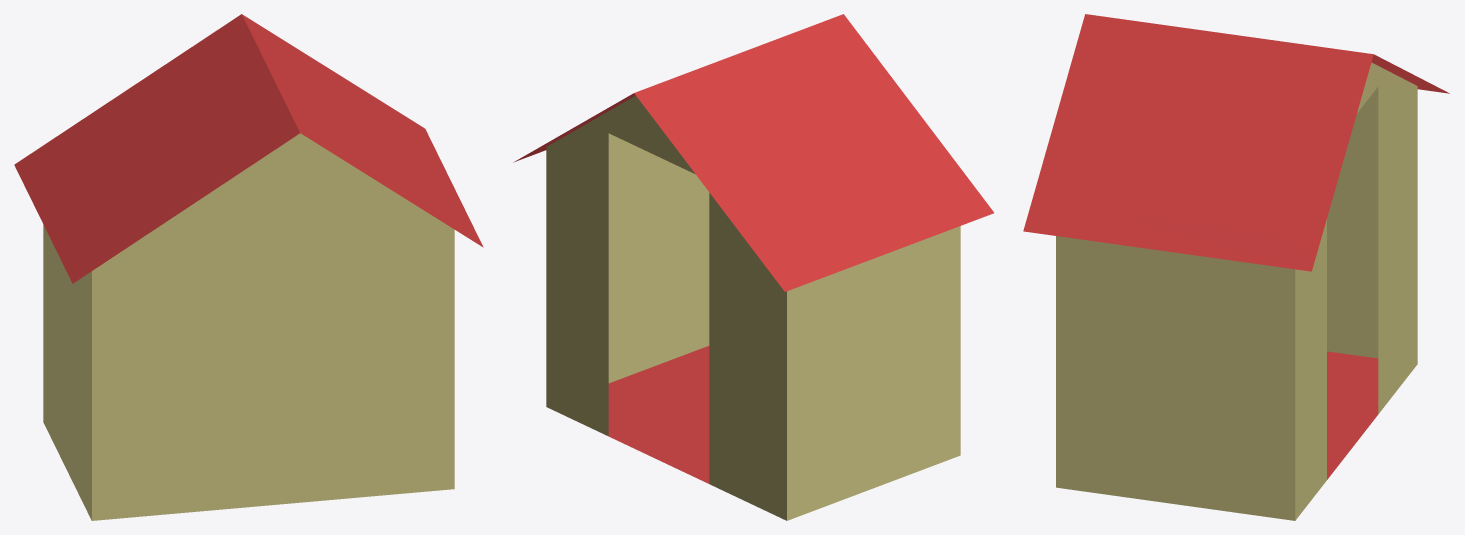
3 renders of one model, left to right at view 1: azimuth 30°, elevation 25°; view 2: azimuth 150°, elevation 25°; view 3: azimuth 270°, elevation 25°, orthographic. The views are drawn at different scales.
Size of the model in its own units: 9.89 by 8.19 by 8.48.
